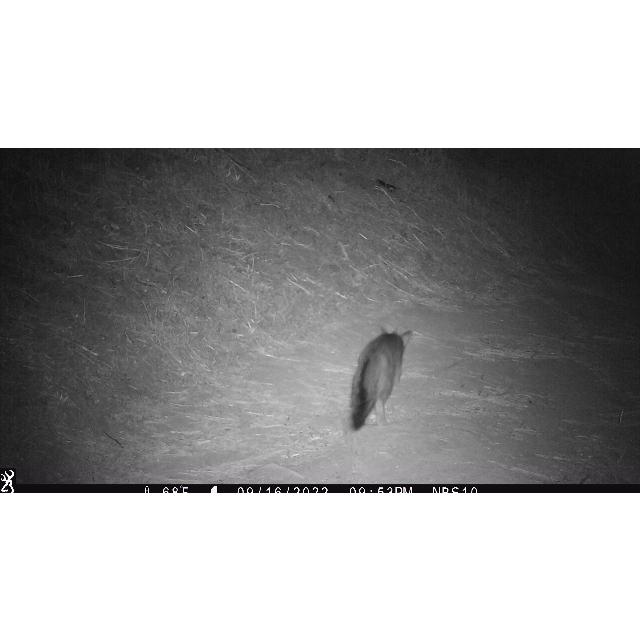animals: (346, 327, 410, 435)
